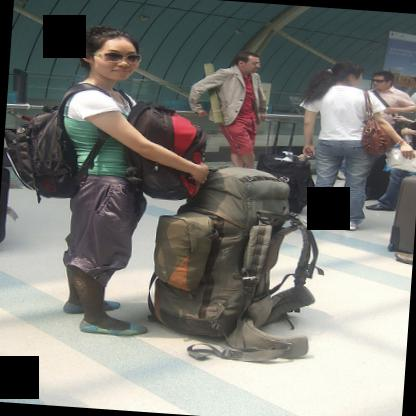backpack: (153, 165, 316, 358), (5, 83, 113, 200), (123, 102, 207, 200)
handbag: (363, 92, 399, 160), (387, 148, 416, 173)
suitcase: (256, 155, 316, 215), (388, 175, 416, 253), (0, 167, 9, 246)
